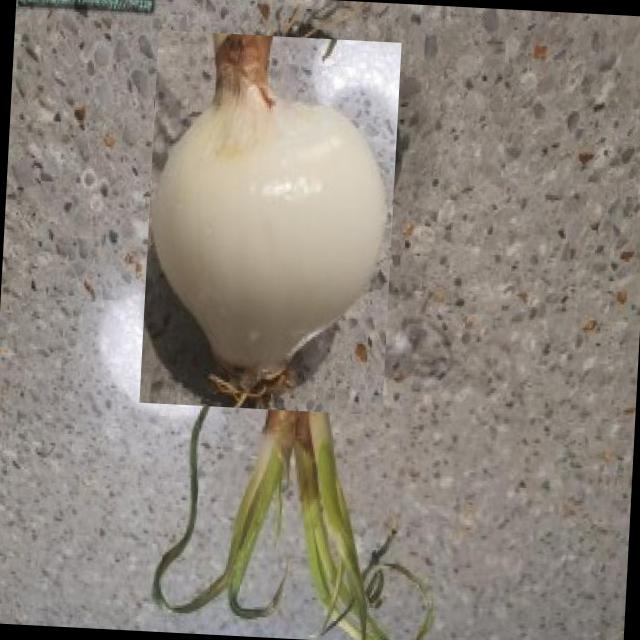Onion: (140, 30, 402, 416)
